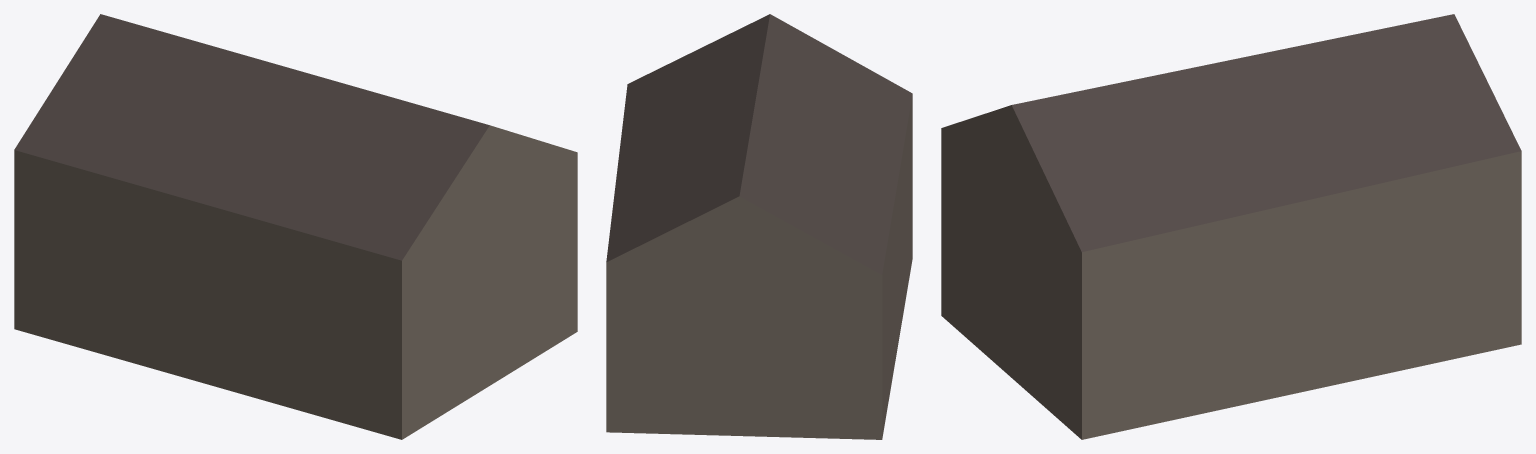
The picture shows the model from 3 angles, left to right: view 1: azimuth 30°, elevation 25°; view 2: azimuth 150°, elevation 25°; view 3: azimuth 270°, elevation 25°; orthographic projection. The views are drawn at different scales.
Parts seen in each view (by area): view 1: HP-w1047377649; view 2: HP-w1047377649; view 3: HP-w1047377649.
Part boxes in pixels (x1,y1,x2,y2): HP-w1047377649: [14, 14, 577, 439]; HP-w1047377649: [606, 14, 912, 439]; HP-w1047377649: [941, 14, 1521, 439].
Size of the model in its own units: 14.72 by 8.72 by 16.81.
